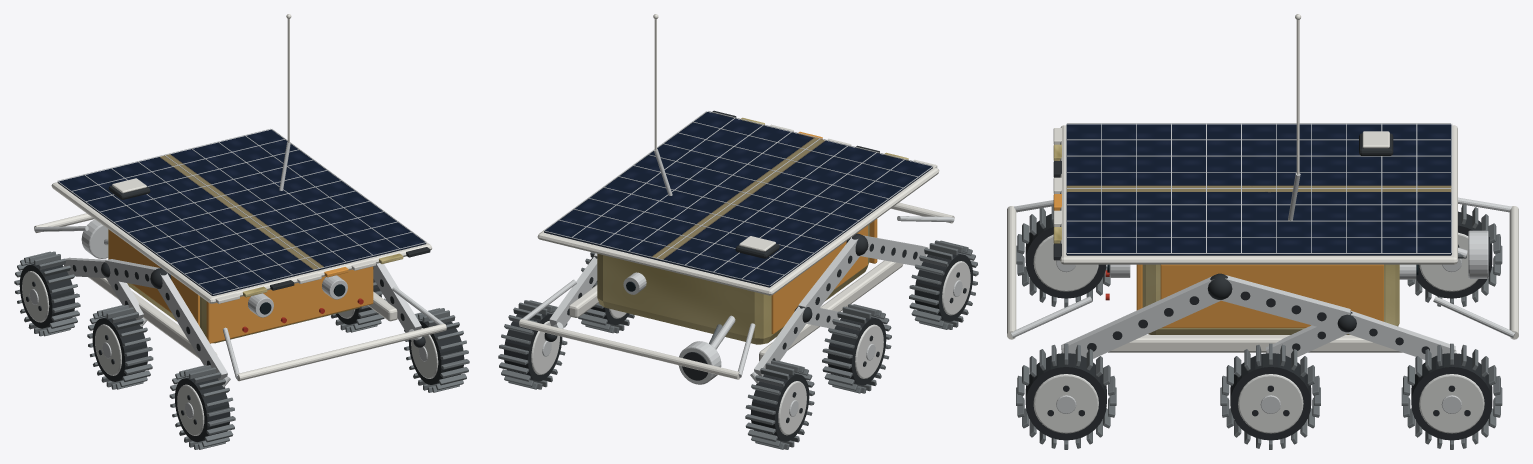
The model's file is sojourner.glb.
3 views of the same model, side by side, from view 1: azimuth 30°, elevation 25°; view 2: azimuth 150°, elevation 25°; view 3: azimuth 270°, elevation 25° (orthographic). The views are drawn at different scales.
Parts seen in each view (by area): view 1: Solar deck / cell field, Warm electronics box / front seam, Solar deck / structural substrate, Bumper / front, Rocker arm front / side -1, Warm electronics box / side seam -1, Wheel middle / side -1 / inner barrel, Wheel rear / side -1 / inner barrel, Wheel front / side -1 / inner barrel, Chassis side rail / -1, Wheel front / side +1 / inner barrel, Rocker arm front / side +1 (+10 smaller); view 2: Solar deck / cell field, Warm electronics box / insulated core, Solar deck / structural substrate, Warm electronics box / side seam -1, Bumper / rear, Chassis side rail / -1, Wheel middle / side -1 / inner barrel, Wheel front / side -1 / inner barrel, Wheel rear / side -1 / inner barrel, Rocker arm bogie / side -1, Wheel rear / side +1 / inner barrel, Rocker arm front / side -1 (+9 smaller); view 3: Solar deck / cell field, Warm electronics box / side seam +1, Solar deck / structural substrate, Rocker arm front / side +1, Chassis side rail / +1, Rocker arm bogie / side +1, Warm electronics box / insulated core, Wheel rear / side +1 / outer hub, Wheel middle / side +1 / outer hub, Wheel front / side +1 / outer hub, Wheel rear / side +1 / inner barrel, Wheel middle / side +1 / inner barrel (+18 smaller).
Part boxes in pixels (box(x1,y1,x2,y2)): Solar deck / cell field: box(57, 129, 426, 295); Warm electronics box / front seam: box(206, 266, 373, 343); Solar deck / structural substrate: box(51, 130, 432, 303); Bumper / front: box(237, 323, 446, 381); Rocker arm front / side -1: box(157, 273, 227, 380); Warm electronics box / side seam -1: box(108, 229, 199, 326); Wheel middle / side -1 / inner barrel: box(92, 317, 147, 381); Wheel rear / side -1 / inner barrel: box(19, 264, 75, 328); Wheel front / side -1 / inner barrel: box(175, 377, 230, 442); Chassis side rail / -1: box(88, 277, 217, 358); Wheel front / side +1 / inner barrel: box(408, 320, 464, 384); Rocker arm front / side +1: box(373, 263, 421, 339); Solar deck / cell field: box(544, 112, 932, 287); Warm electronics box / insulated core: box(597, 224, 869, 344); Solar deck / structural substrate: box(537, 113, 939, 295); Warm electronics box / side seam -1: box(771, 225, 867, 333); Bumper / rear: box(519, 319, 739, 379); Chassis side rail / -1: box(759, 260, 903, 361); Wheel middle / side -1 / inner barrel: box(827, 317, 886, 385); Wheel front / side -1 / inner barrel: box(914, 253, 972, 321); Wheel rear / side -1 / inner barrel: box(750, 373, 809, 441); Rocker arm bogie / side -1: box(798, 237, 859, 322); Wheel rear / side +1 / inner barrel: box(504, 313, 562, 381); Rocker arm front / side -1: box(860, 235, 928, 265); Solar deck / cell field: box(1066, 124, 1451, 255); Warm electronics box / side seam +1: box(1160, 264, 1383, 327); Solar deck / structural substrate: box(1060, 125, 1457, 264); Rocker arm front / side +1: box(1061, 276, 1221, 358); Chassis side rail / +1: box(1108, 335, 1402, 352); Rocker arm bogie / side +1: box(1219, 275, 1350, 333); Warm electronics box / insulated core: box(1142, 264, 1399, 334); Wheel rear / side +1 / outer hub: box(1419, 374, 1484, 433); Wheel middle / side +1 / outer hub: box(1238, 374, 1303, 433); Wheel front / side +1 / outer hub: box(1033, 374, 1098, 433); Wheel rear / side +1 / inner barrel: box(1411, 353, 1492, 440); Wheel middle / side +1 / inner barrel: box(1230, 353, 1311, 440).
Bounding box in the file's own units: 0.4816 × 0.5585 × 0.6557.
Materials: 10 (2 with a texture image).
